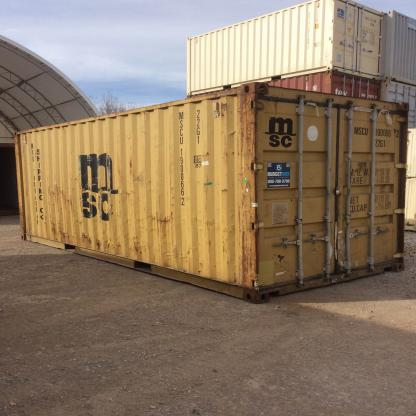Damage: (234, 93, 259, 294), (220, 226, 238, 284), (153, 241, 196, 264), (78, 230, 121, 253), (146, 210, 176, 239), (44, 185, 77, 209), (47, 217, 72, 242), (125, 235, 151, 256), (126, 135, 135, 180), (218, 134, 229, 164), (212, 102, 233, 117), (202, 173, 210, 212), (104, 194, 116, 217), (202, 218, 216, 236), (271, 93, 280, 118), (168, 188, 178, 210), (354, 161, 368, 175), (273, 251, 286, 264), (134, 170, 144, 184), (197, 262, 205, 276), (122, 190, 140, 196), (205, 238, 215, 247), (386, 227, 396, 236), (200, 150, 211, 158), (378, 151, 389, 159), (288, 197, 298, 205), (192, 214, 200, 222), (391, 127, 399, 135), (219, 187, 228, 194), (70, 176, 80, 182), (210, 262, 219, 268), (230, 150, 236, 157), (147, 186, 153, 192), (146, 179, 153, 183)
